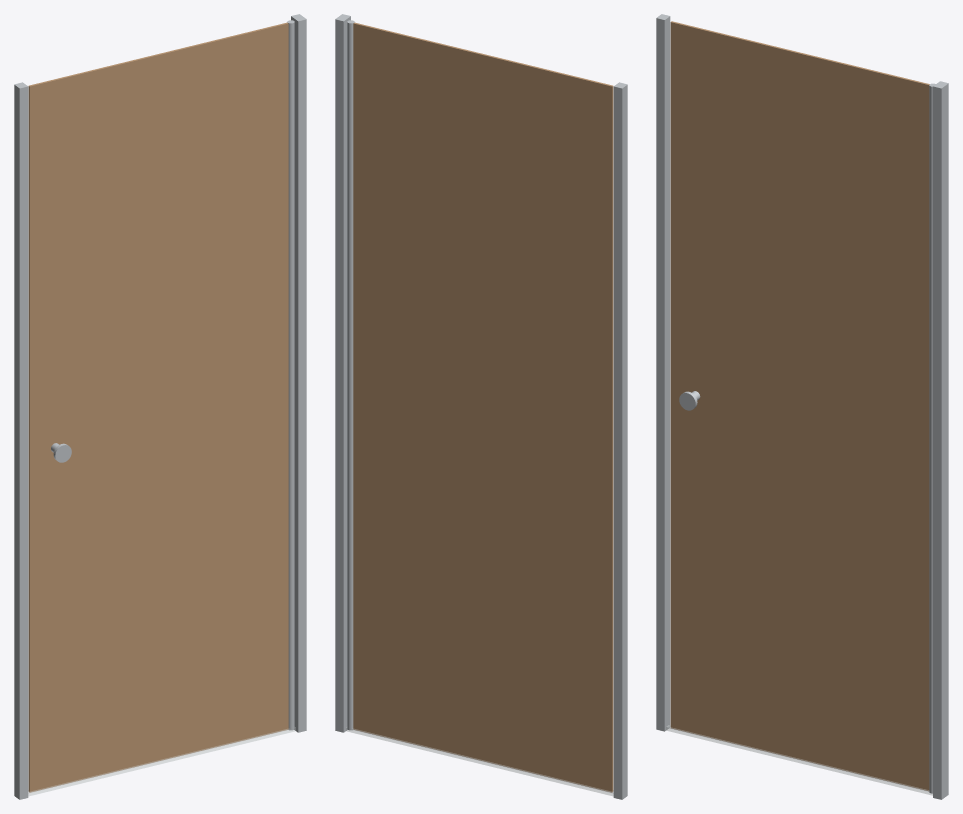
3 views of the same model, side by side, from view 1: azimuth 30°, elevation 25°; view 2: azimuth 150°, elevation 25°; view 3: azimuth 330°, elevation 25° (orthographic).
Parts seen in each view (by area): view 1: Bronze pivot glass, Wall mounting channel, Right hinge channel, Continuous pivot, Lower seal; view 2: Bronze pivot glass, Wall mounting channel, Right hinge channel, Continuous pivot, Lower seal; view 3: Bronze pivot glass, Right hinge channel, Wall mounting channel, Continuous pivot, Lower seal.
Boxes of the visible parts, x1,y1,x2,y2 form: Bronze pivot glass: (28,22,288,792); Wall mounting channel: (14,82,28,799); Right hinge channel: (291,14,306,732); Continuous pivot: (287,20,294,730); Lower seal: (28,727,295,796); Bronze pivot glass: (353,22,613,792); Wall mounting channel: (613,82,627,799); Right hinge channel: (335,14,350,732); Continuous pivot: (347,20,354,730); Lower seal: (346,727,613,796); Bronze pivot glass: (670,21,929,791); Right hinge channel: (933,81,948,799); Wall mounting channel: (656,14,670,731); Continuous pivot: (929,83,935,793); Lower seal: (666,725,932,795).
Bounding box in the file's own units: 0.8 × 1.9 × 0.0615.
